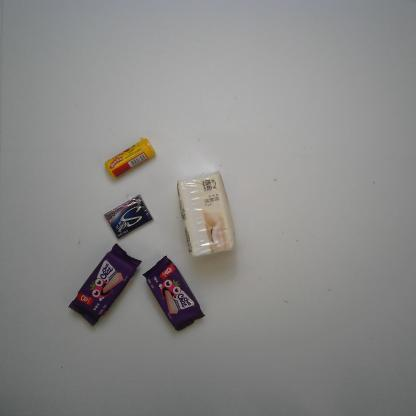Candy: (102, 136, 156, 181)
Dessert: (68, 242, 144, 328), (141, 254, 207, 334)
Gum: (102, 192, 156, 240)
Tissue: (175, 170, 238, 260)
